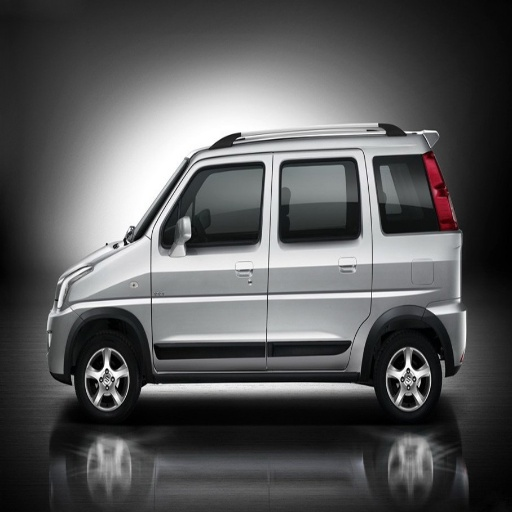back_left_door: (267, 155, 370, 367)
front_left_door: (152, 156, 275, 365)
trunk: (362, 264, 464, 362)
